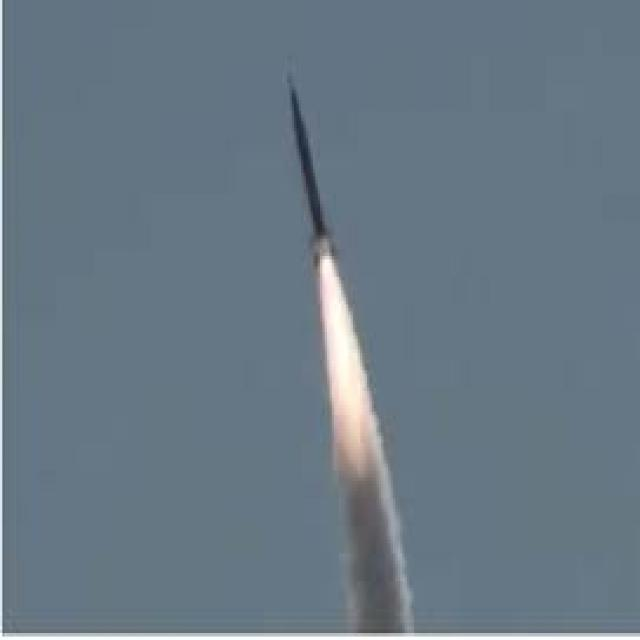missile: (287, 73, 342, 274)
